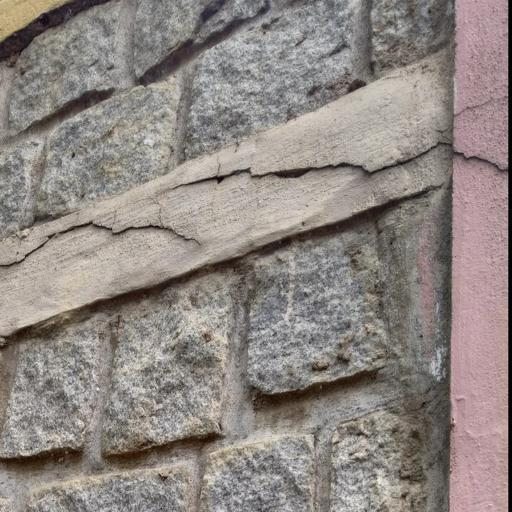major_crack: (158, 133, 512, 189), (0, 209, 210, 281)
